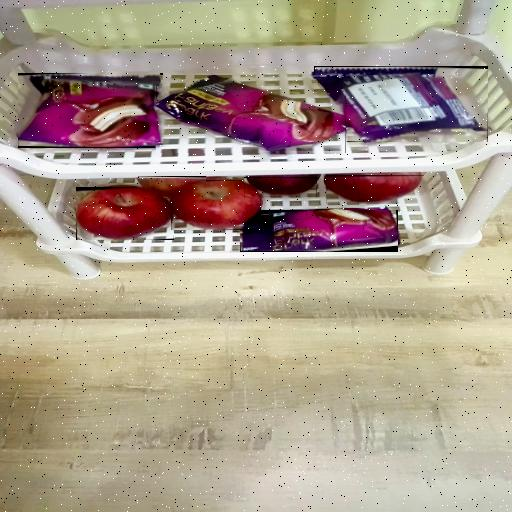Apple: (76, 187, 174, 240), (171, 180, 261, 230), (326, 175, 424, 204), (138, 176, 206, 199), (244, 177, 317, 197)
Choco Pie: (156, 76, 346, 154), (314, 66, 488, 142), (18, 73, 163, 148), (240, 210, 398, 252)
